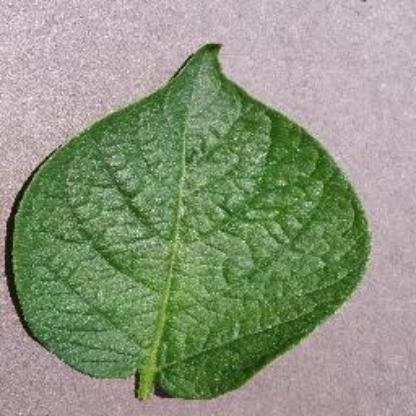Healthy-plant: (15, 30, 381, 404)
